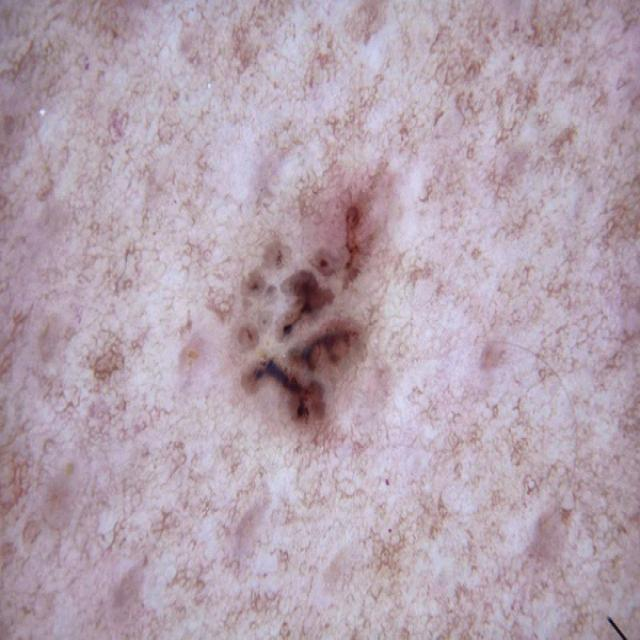Basal-Cell-Carcinoma-BCC-: (173, 117, 429, 466)
